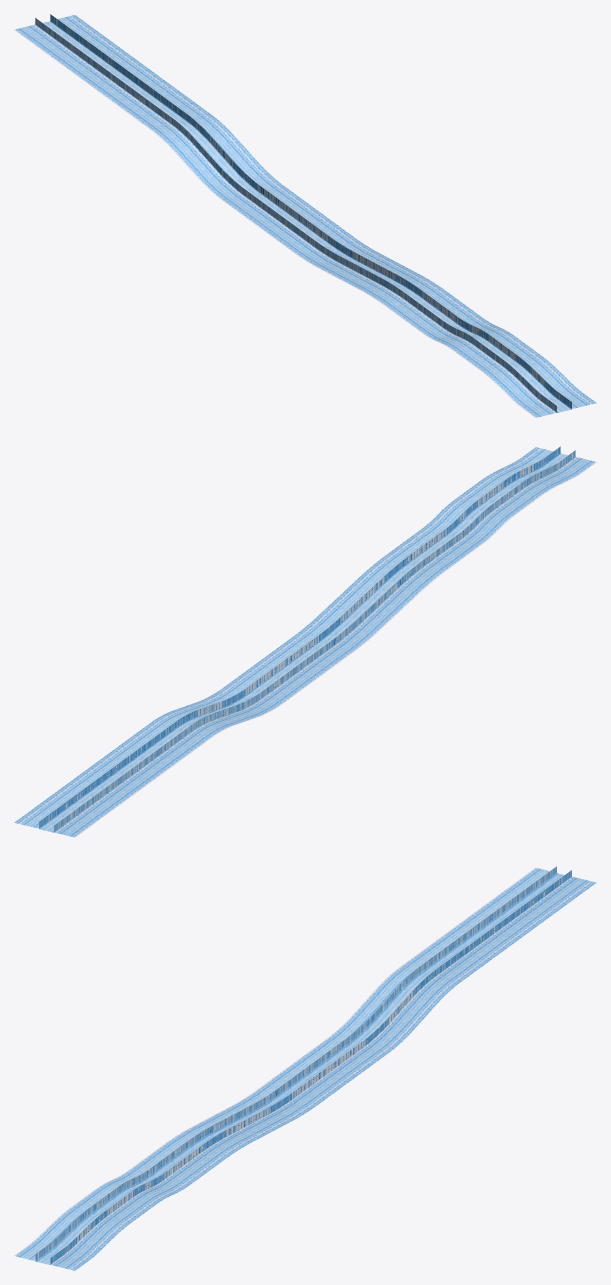
The model's file is snow track1.fbx.
The picture shows the model from 3 angles, top to bottom: view 1: azimuth 30°, elevation 25°; view 2: azimuth 150°, elevation 25°; view 3: azimuth 330°, elevation 25°; orthographic projection.
Visible parts, largest first — view 1: Plane.002, Plane.006, Plane.003, Plane.001; view 2: Plane.002, Plane.006, Plane.001, Plane.003; view 3: Plane.002, Plane.006, Plane.001, Plane.003.
Boxes of the visible parts, x1=… form: Plane.002: x1=14, y1=15, x2=596, y2=417; Plane.006: x1=43, y1=21, x2=571, y2=412; Plane.003: x1=50, y1=14, x2=571, y2=408; Plane.001: x1=35, y1=18, x2=556, y2=412; Plane.002: x1=14, y1=447, x2=596, y2=837; Plane.006: x1=39, y1=453, x2=567, y2=832; Plane.001: x1=54, y1=450, x2=575, y2=831; Plane.003: x1=39, y1=446, x2=560, y2=828; Plane.002: x1=14, y1=868, x2=596, y2=1270; Plane.006: x1=36, y1=873, x2=564, y2=1264; Plane.001: x1=35, y1=866, x2=556, y2=1260; Plane.003: x1=50, y1=870, x2=571, y2=1264.
Bounding box in the file's own units: 1142 × 461 × 16876.
1 material, 1 textured.
